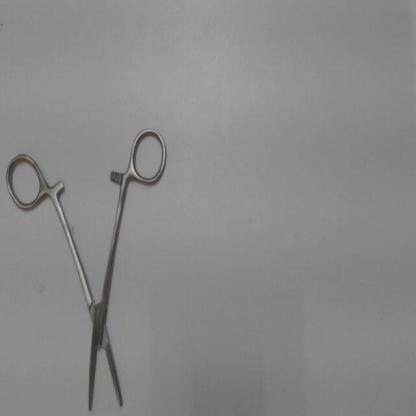Mayo Needle Holder: (2, 122, 172, 415)
